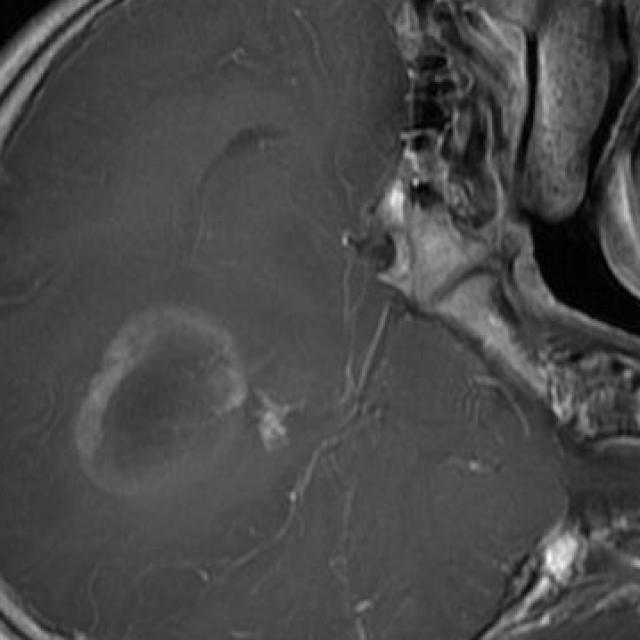glioma: (77, 308, 307, 497)
